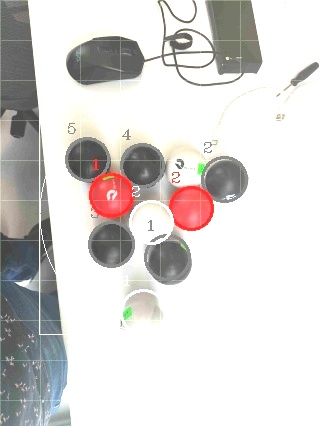Pelota blanca: (119, 286, 166, 336), (129, 198, 174, 246), (164, 145, 206, 187), (164, 0, 198, 22)
Pelota negra: (63, 33, 145, 86), (143, 236, 193, 286), (87, 220, 137, 270), (63, 134, 113, 182), (201, 156, 249, 203), (119, 142, 166, 187)
Pelota roja: (167, 182, 214, 232), (87, 172, 134, 219)
